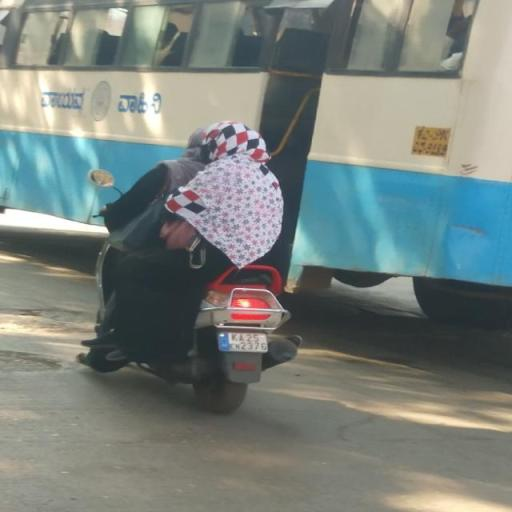bike: (80, 119, 317, 419)
numberplate: (217, 332, 273, 354)
withouthelmet: (210, 122, 258, 160), (189, 129, 212, 162)
